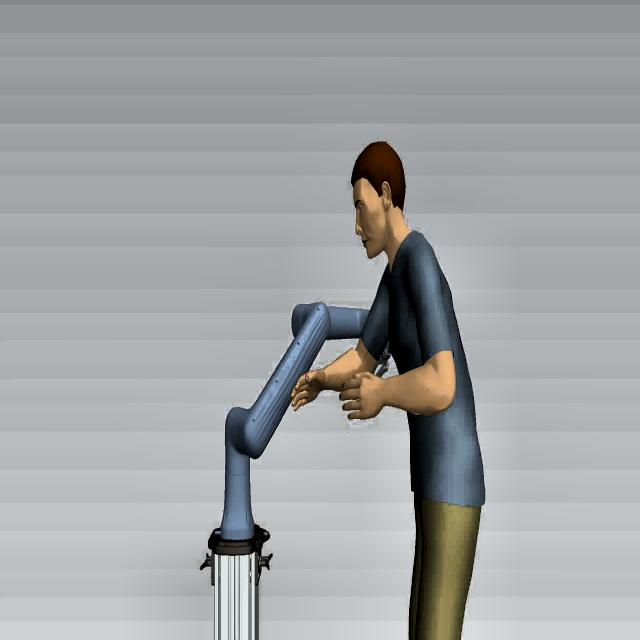robot: (199, 299, 391, 638)
